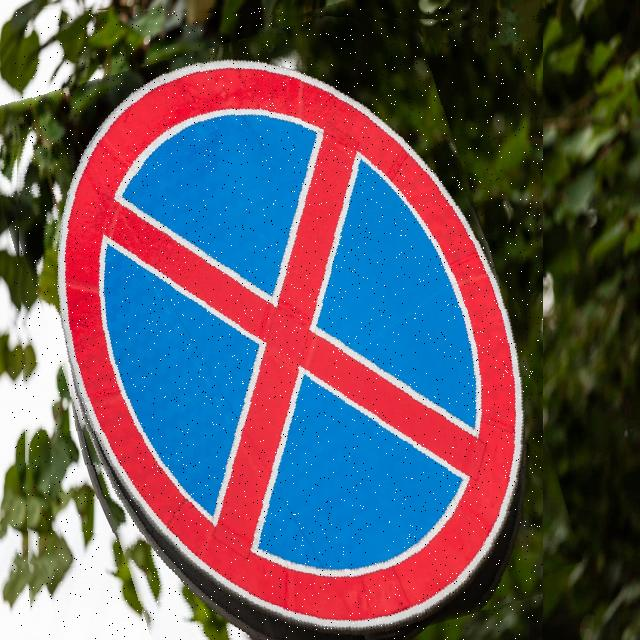no stopping: (12, 7, 543, 640)
